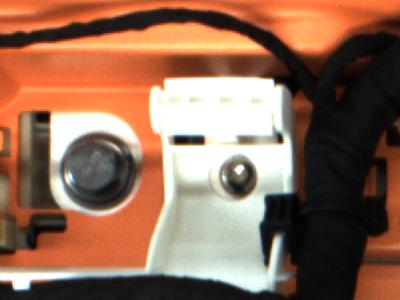nut_b: (53, 132, 137, 208)
